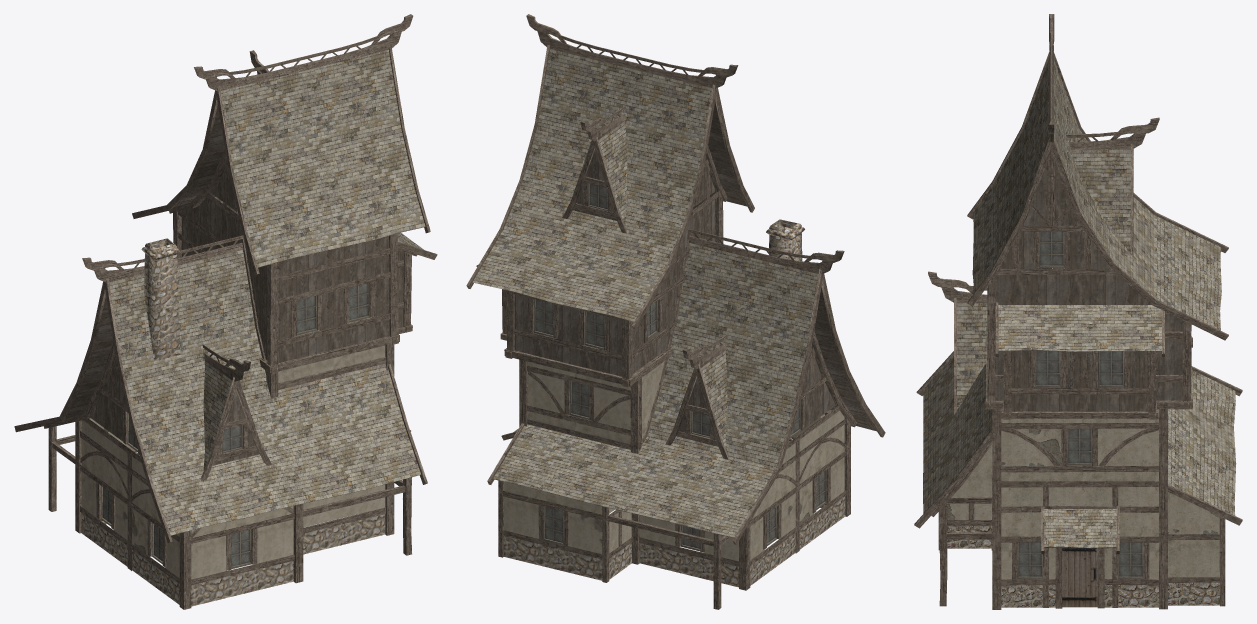
File: mw_type_2_cottage_02_LOD1.FBX
The picture shows the model from 3 angles, left to right: view 1: azimuth 30°, elevation 25°; view 2: azimuth 150°, elevation 25°; view 3: azimuth 270°, elevation 25°; orthographic projection. The views are drawn at different scales.
Parts seen in each view (by area): view 1: mw_type_2_cottage_building_02_roof, mw_type_2_cottage_building_02_wood, mw_type_2_cottage_building_02_wall, mw_type_2_cottage_building_02_stone_01, mw_type_2_cottage_building_02; view 2: mw_type_2_cottage_building_02_roof, mw_type_2_cottage_building_02_wood, mw_type_2_cottage_building_02_wall, mw_type_2_cottage_building_02_stone_01, mw_type_2_cottage_building_02; view 3: mw_type_2_cottage_building_02_wood, mw_type_2_cottage_building_02_roof, mw_type_2_cottage_building_02_wall, mw_type_2_cottage_building_02, mw_type_2_cottage_building_02_stone_01.
Part boxes in pixels (left/top/right/bottom): mw_type_2_cottage_building_02_roof: left=65, top=50, right=425, bottom=535; mw_type_2_cottage_building_02_wood: left=14, top=14, right=437, bottom=609; mw_type_2_cottage_building_02_wall: left=81, top=345, right=385, bottom=579; mw_type_2_cottage_building_02_stone_01: left=81, top=238, right=385, bottom=606; mw_type_2_cottage_building_02: left=101, top=249, right=369, bottom=568; mw_type_2_cottage_building_02_roof: left=472, top=48, right=876, bottom=537; mw_type_2_cottage_building_02_wood: left=466, top=14, right=885, bottom=609; mw_type_2_cottage_building_02_wall: left=504, top=332, right=844, bottom=561; mw_type_2_cottage_building_02_stone_01: left=504, top=219, right=845, bottom=587; mw_type_2_cottage_building_02: left=533, top=183, right=826, bottom=551; mw_type_2_cottage_building_02_wood: left=914, top=14, right=1242, bottom=609; mw_type_2_cottage_building_02_roof: left=923, top=59, right=1236, bottom=548; mw_type_2_cottage_building_02_wall: left=947, top=409, right=1219, bottom=579; mw_type_2_cottage_building_02: left=1017, top=231, right=1143, bottom=607; mw_type_2_cottage_building_02_stone_01: left=947, top=525, right=1219, bottom=607.
Bounding box in the file's own units: 1483 × 2105 × 1232.
